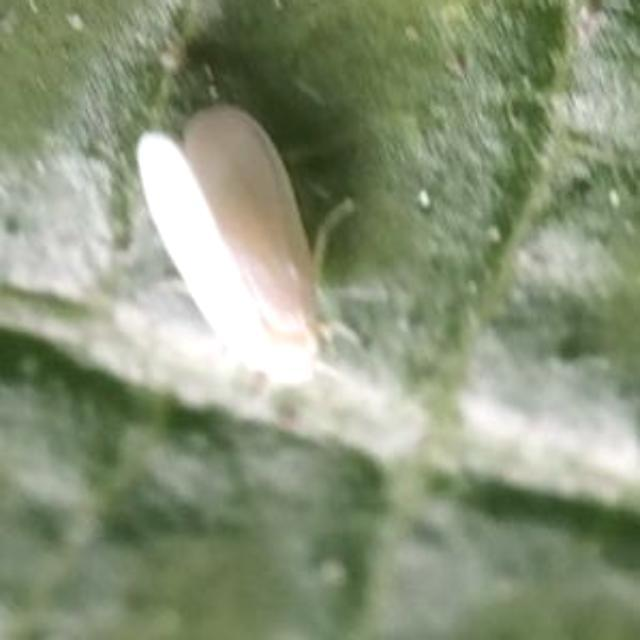Silverleaf whitefly: (132, 97, 378, 415)
